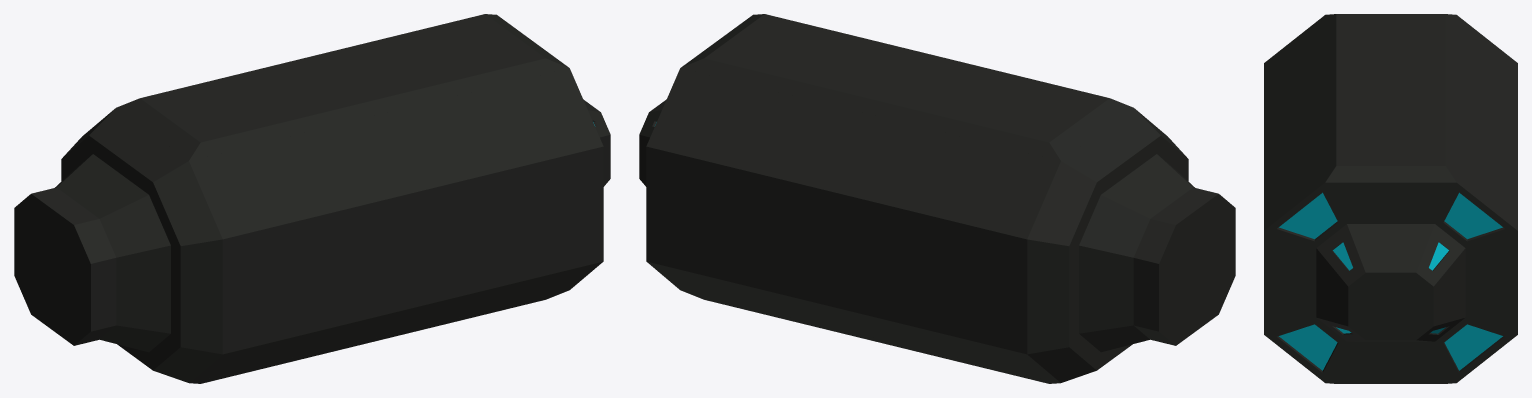
File: Baraban.fbx
The picture shows the model from 3 angles, left to right: view 1: azimuth 30°, elevation 25°; view 2: azimuth 150°, elevation 25°; view 3: azimuth 270°, elevation 25°; orthographic projection. The views are drawn at different scales.
Visible parts, largest first — view 1: Cube.001; view 2: Cube.001; view 3: Cube.001.
Part boxes in pixels (<box>): Cube.001: <box>14,14,610,383</box>; Cube.001: <box>639,14,1235,383</box>; Cube.001: <box>1264,14,1517,383</box>.
Size of the model in its own units: 382 by 165 by 174.
